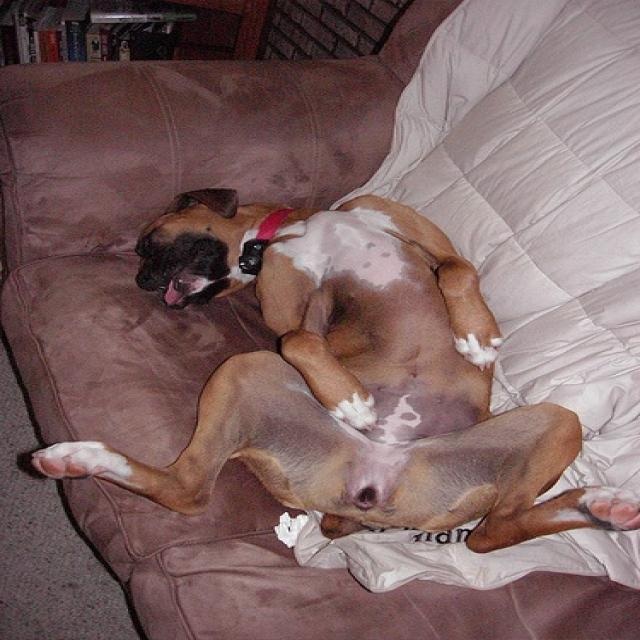dog: (36, 182, 636, 548)
sofa: (2, 1, 638, 639)
